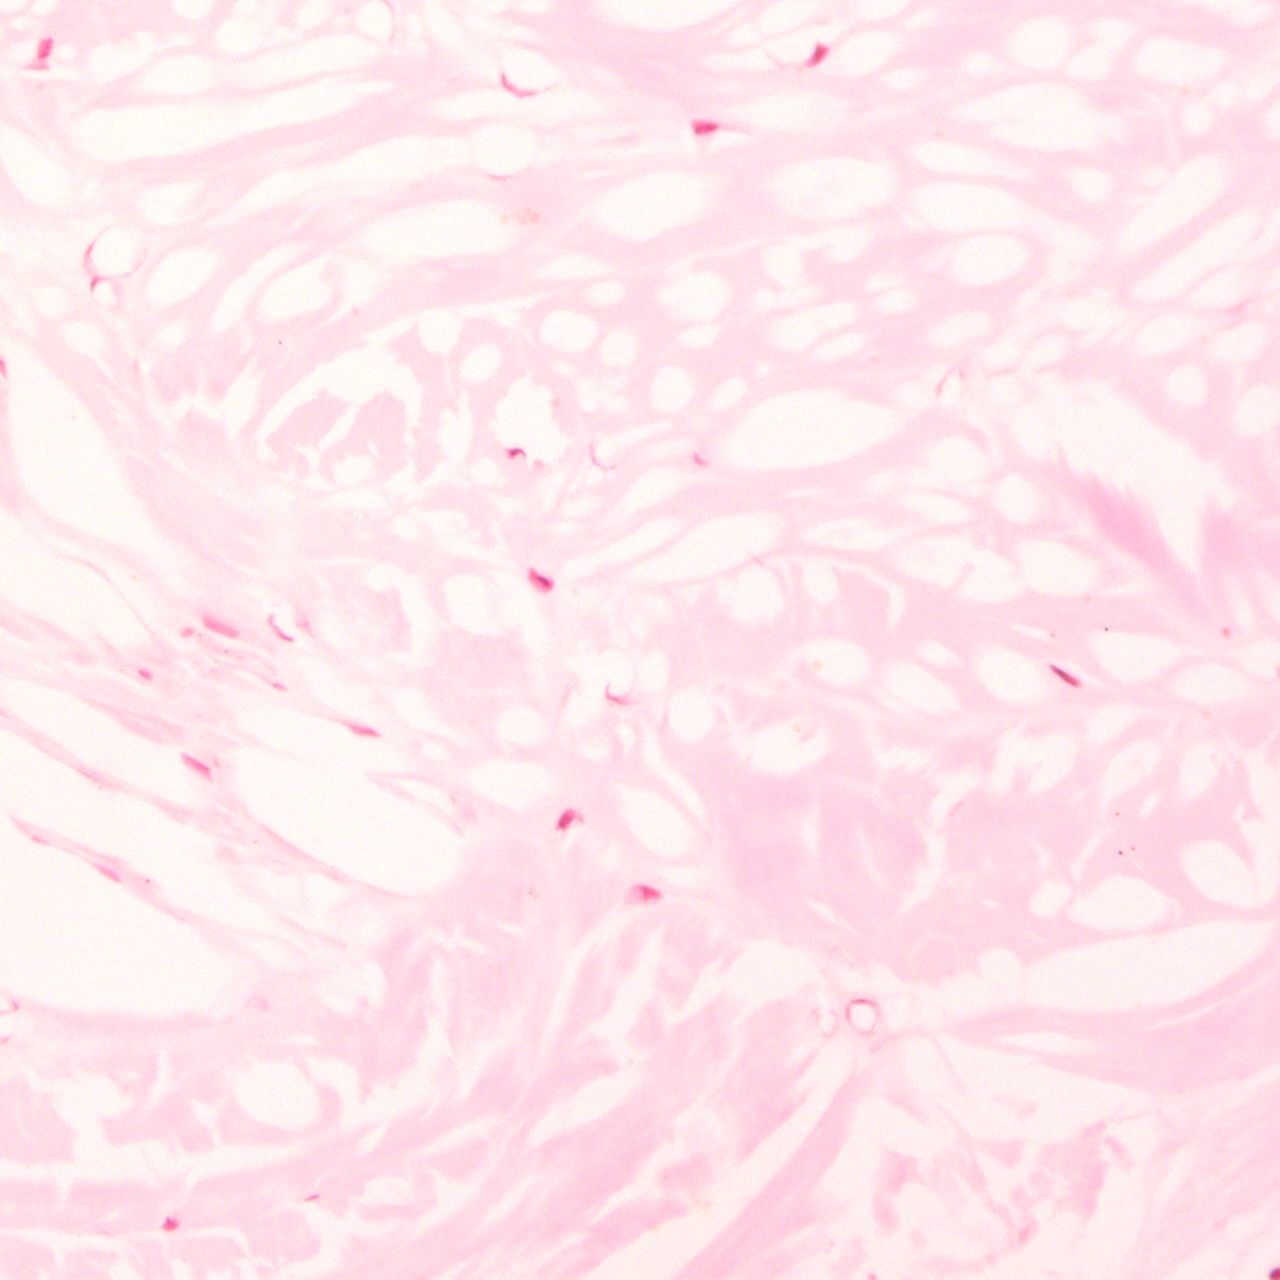nucleus-AC: (176, 744, 219, 788), (329, 712, 384, 742), (1043, 659, 1083, 695), (260, 610, 297, 649), (522, 560, 559, 598), (200, 612, 241, 641), (802, 39, 833, 75), (551, 801, 579, 836), (621, 884, 662, 905), (690, 120, 719, 135), (36, 36, 54, 57), (135, 667, 154, 681), (505, 448, 527, 459), (161, 1218, 178, 1231), (1267, 1265, 1280, 1280)
